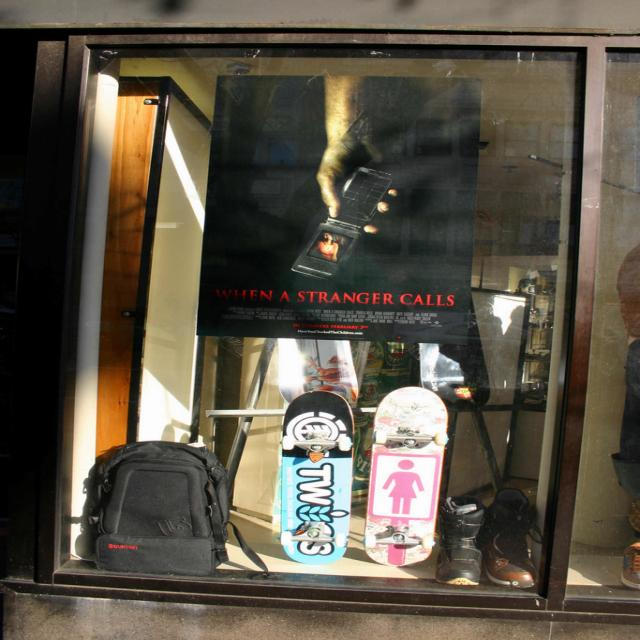backpack: (80, 443, 236, 572)
